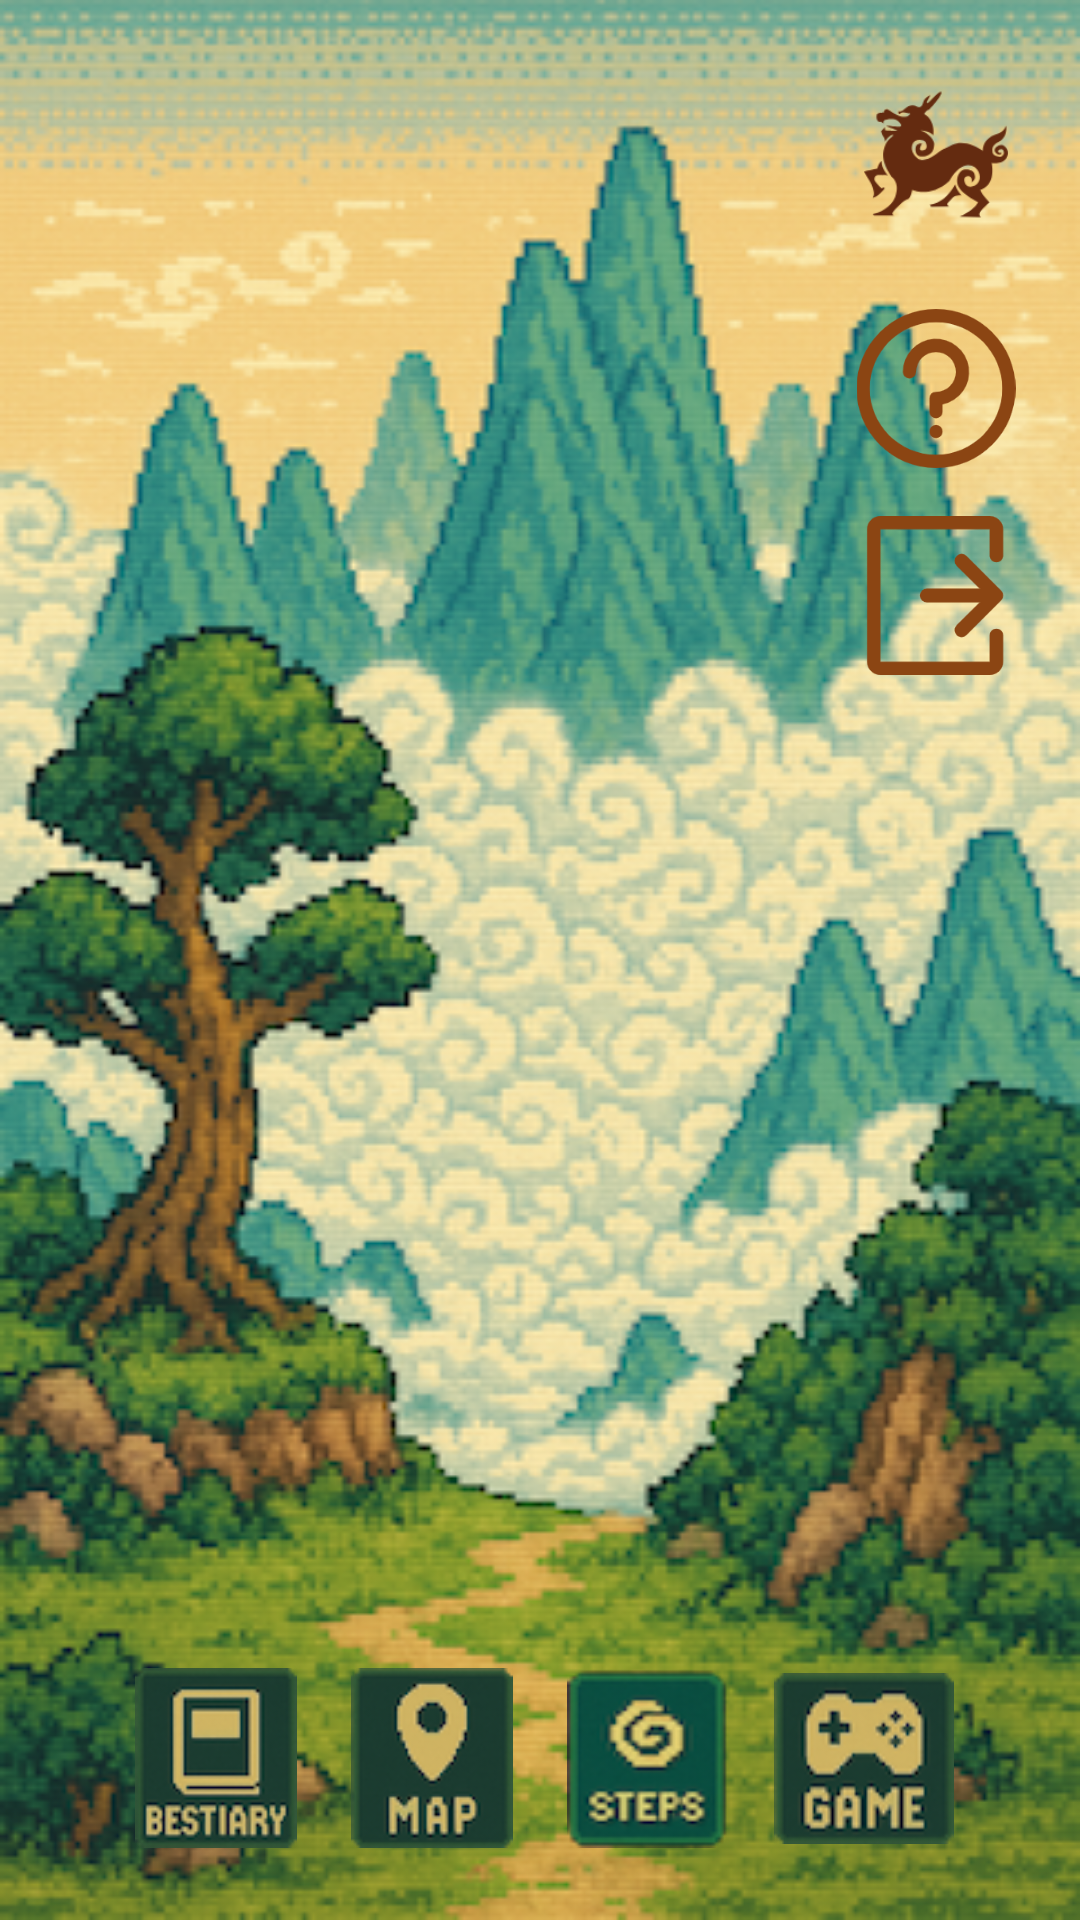

Icon click points for this 1080 × 1920 phone screenshot, format (x=x, y=y):
Choose Creature: (x=936, y=154)
Game Guide: (x=936, y=388)
